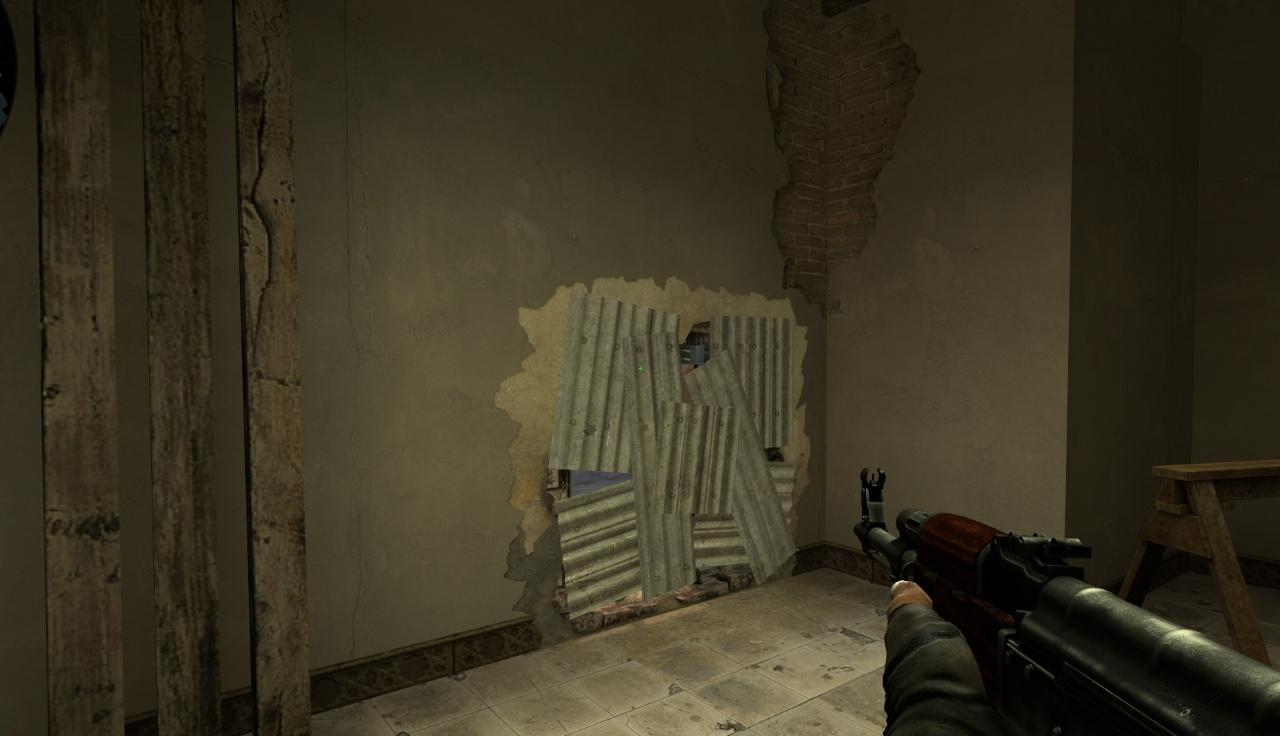rifle: (854, 466, 1280, 736)
